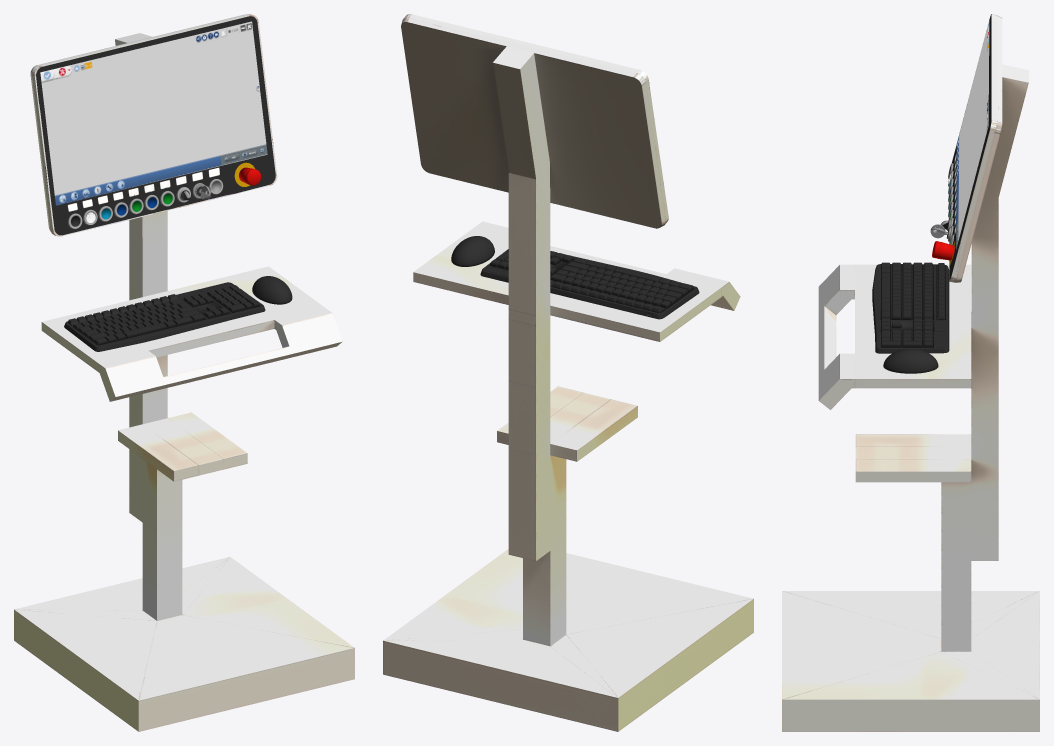
The model's file is pulpito.glb.
3 views of the same model, side by side, from view 1: azimuth 30°, elevation 25°; view 2: azimuth 150°, elevation 25°; view 3: azimuth 270°, elevation 25° (orthographic). The views are drawn at different scales.
Visible parts, largest first — view 1: pulpito.001, schermo.001, tastiera, pulsanti.001; view 2: pulpito.001, tastiera; view 3: pulpito.001, tastiera, schermo.001, pulsanti.001.
Part boxes in pixels (left/top/right/bottom): pulpito.001: left=14, top=14, right=354, bottom=731; schermo.001: left=40, top=21, right=267, bottom=205; tastiera: left=64, top=276, right=292, bottom=351; pulsanti.001: left=67, top=162, right=254, bottom=228; pulpito.001: left=383, top=14, right=753, bottom=731; tastiera: left=451, top=236, right=699, bottom=319; pulpito.001: left=782, top=14, right=1039, bottom=731; tastiera: left=872, top=262, right=949, bottom=373; schermo.001: left=956, top=20, right=989, bottom=249; pulsanti.001: left=940, top=153, right=956, bottom=265.
Size of the model in its own units: 0.5119 by 1.27 by 0.4872.
Materials: 31 (11 with a texture image).
